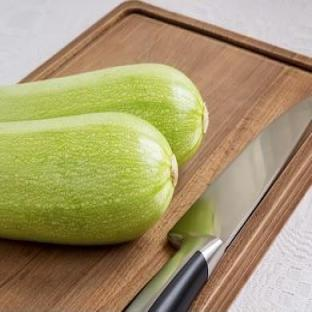Zucchini: (0, 113, 177, 244), (0, 64, 207, 164)
